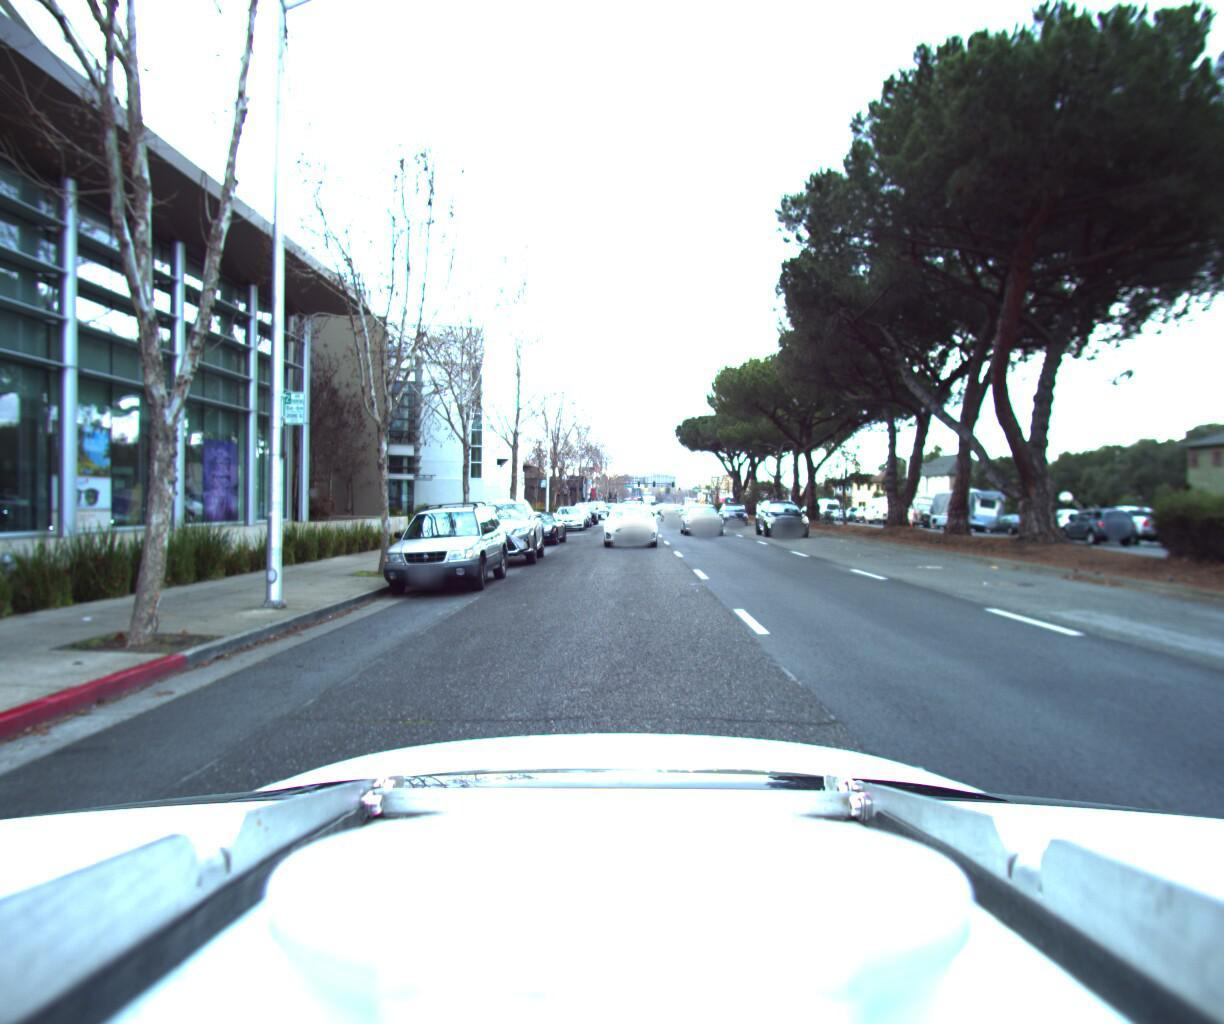car: (364, 492, 511, 598), (448, 490, 550, 567), (1081, 495, 1194, 544), (1038, 500, 1119, 540), (1029, 500, 1111, 535), (756, 491, 820, 534), (601, 494, 657, 543), (505, 502, 567, 542), (678, 494, 728, 534), (550, 496, 588, 525), (719, 491, 751, 519), (617, 491, 647, 517), (585, 492, 609, 513)
other_vehicle: (927, 478, 1006, 524), (889, 483, 944, 519), (862, 486, 918, 518)
